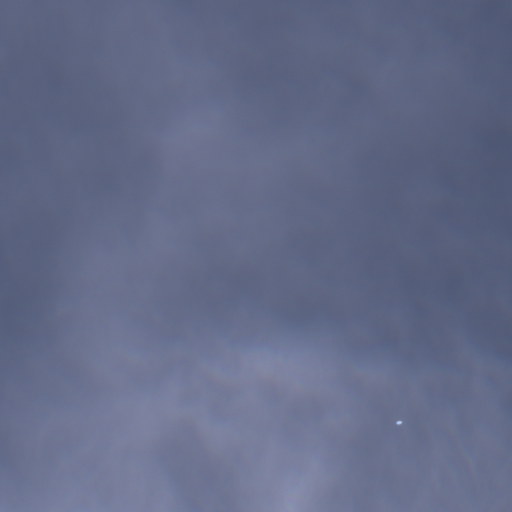Iceberg: (396, 421, 401, 424)
